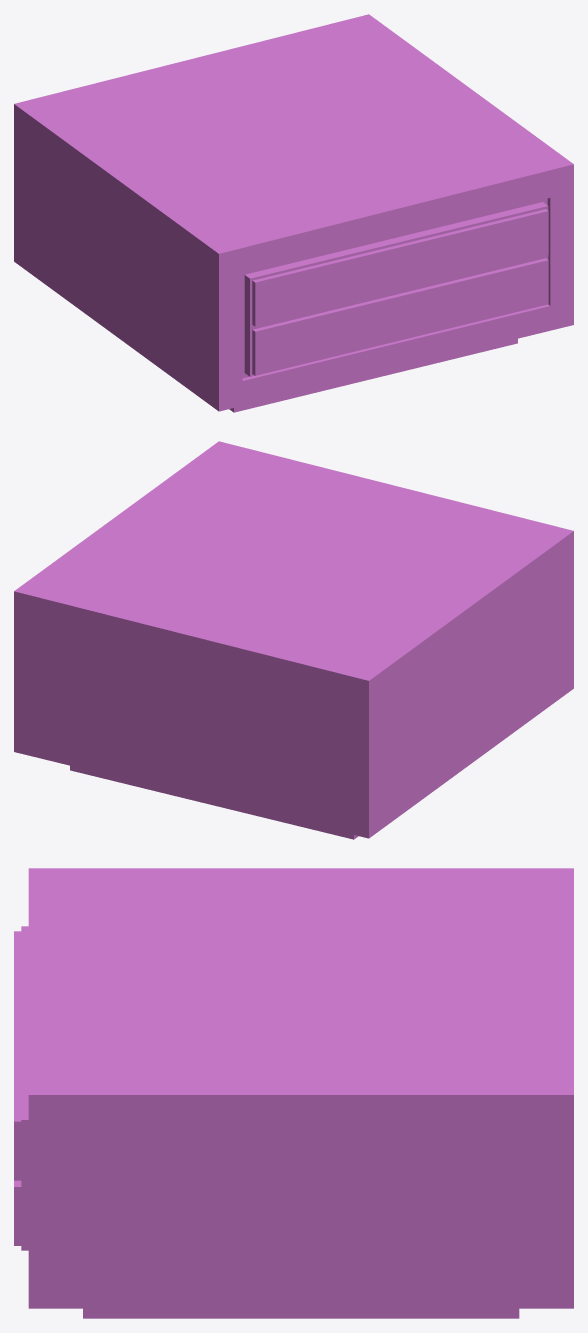
The model's file is Drawer_1.FBX.
The picture shows the model from 3 angles, top to bottom: view 1: azimuth 30°, elevation 25°; view 2: azimuth 150°, elevation 25°; view 3: azimuth 270°, elevation 25°; orthographic projection. The views are drawn at different scales.
Parts seen in each view (by area): view 1: Drawer_1; view 2: Drawer_1; view 3: Drawer_1.
Boxes of the visible parts, box(x1,y1,x2,y2) form: Drawer_1: box(14, 14, 573, 412); Drawer_1: box(14, 441, 573, 839); Drawer_1: box(14, 868, 573, 1318).
Bounding box in the file's own units: 1.41 × 0.7017 × 1.44.
